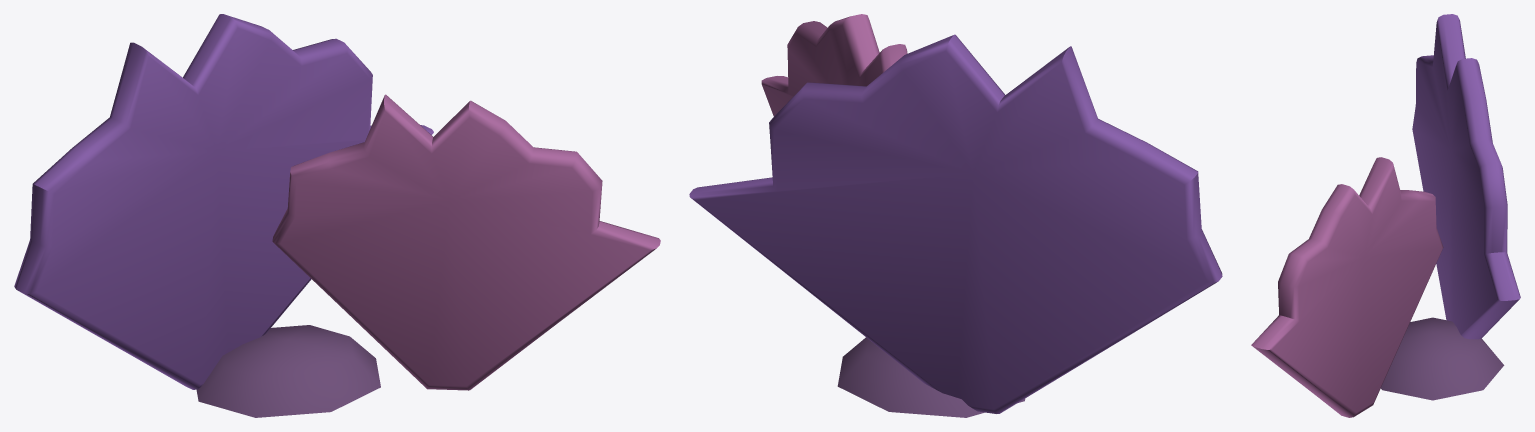
File: coral-c.glb
3 views of the same model, side by side, from view 1: azimuth 30°, elevation 25°; view 2: azimuth 150°, elevation 25°; view 3: azimuth 270°, elevation 25° (orthographic). The views are drawn at different scales.
Visible parts, largest first — view 1: coral-c; view 2: coral-c; view 3: coral-c.
Boxes of the visible parts, bbox=[...] form: coral-c: bbox=[14, 14, 660, 417]; coral-c: bbox=[689, 14, 1222, 417]; coral-c: bbox=[1251, 14, 1520, 417].
Size of the model in its own units: 0.8584 by 0.556 by 0.4531.
